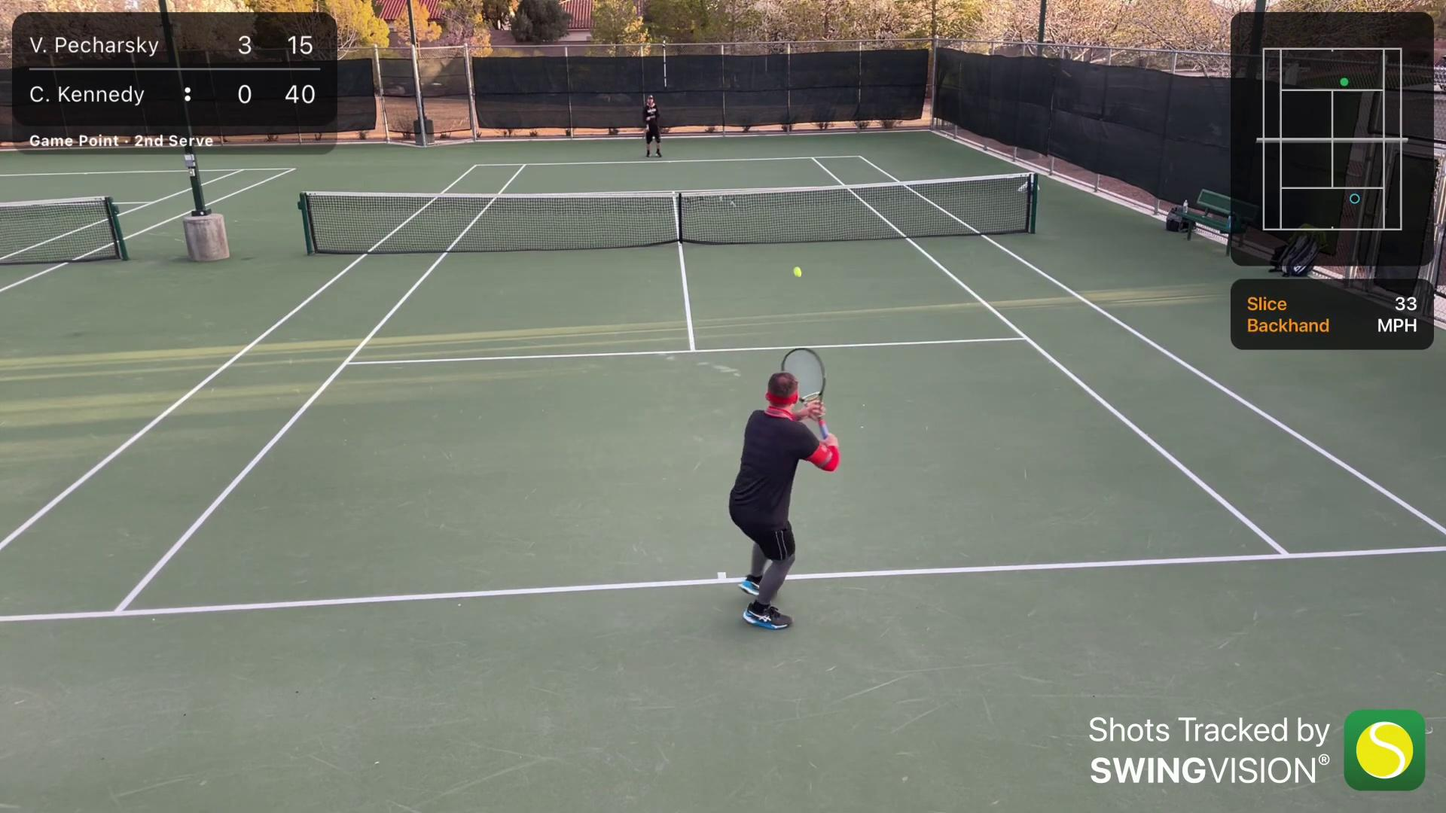ball: (790, 265, 806, 280)
